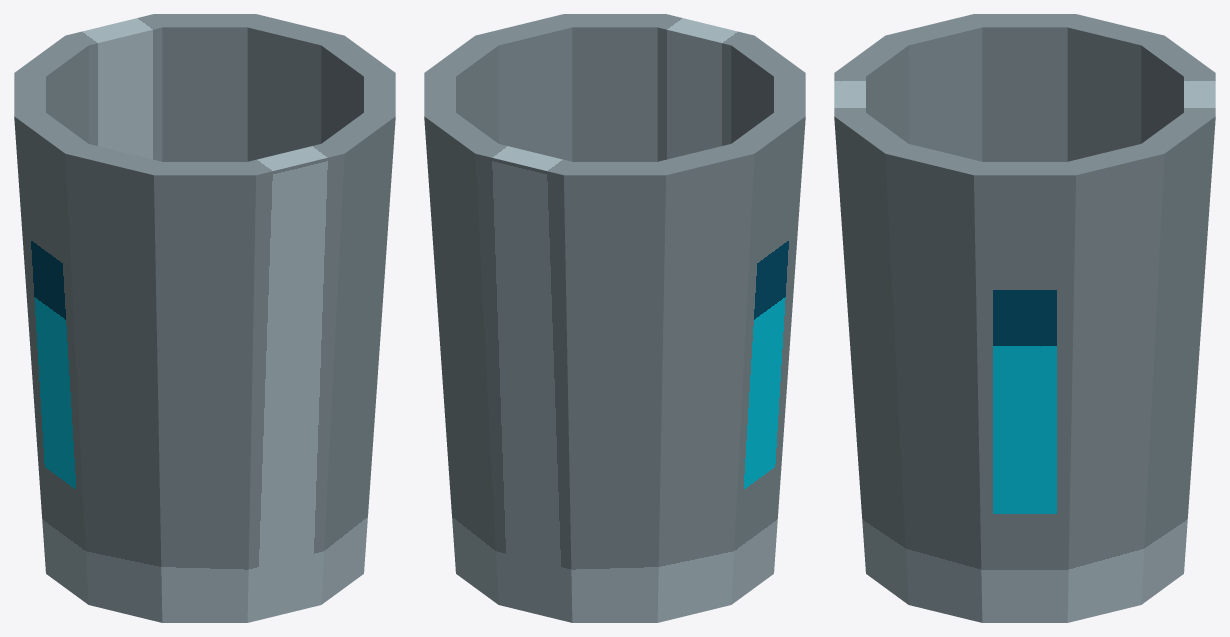
File: Prop_Trashcan.gltf
The picture shows the model from 3 angles, left to right: view 1: azimuth 30°, elevation 25°; view 2: azimuth 150°, elevation 25°; view 3: azimuth 270°, elevation 25°; orthographic projection.
Parts seen in each view (by area): view 1: cylinder; view 2: cylinder; view 3: cylinder.
Part boxes in pixels (x1,y1,x2,y2): cylinder: (14, 14, 395, 622); cylinder: (424, 14, 805, 622); cylinder: (834, 14, 1215, 622).
Bounding box in the file's own units: 0.375 × 0.5 × 0.375.
1 material, 1 textured.
